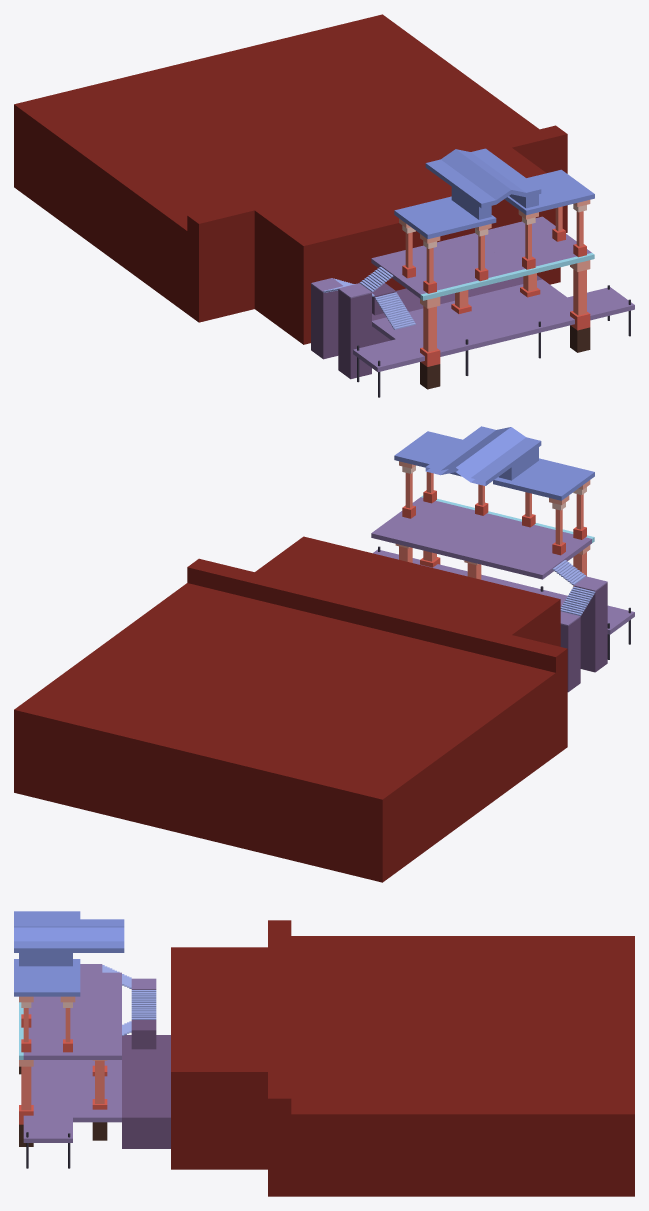
The model's file is dock for test.fbx.
3 renders of one model, top to bottom at view 1: azimuth 30°, elevation 25°; view 2: azimuth 150°, elevation 25°; view 3: azimuth 270°, elevation 25°, orthographic.
Visible parts, largest first — view 1: entrance_roof.003, underneath entrance, entrance_door_platform.021, entrance_roof, entrance_roof.002, beneath steps.001, beneath steps.002, dock_platform, dock_platform.002, dock_platform.003, dock_platform.004, dock_platform.009 (+17 smaller); view 2: entrance_roof.003, underneath entrance, entrance_door_platform.021, entrance_roof.002, entrance_roof, beneath steps.001, entrance_platform.004, entrance_platform.009, entrance_platform.007, entrance_platform.008, beneath steps.002, entrance_platform.001 (+4 smaller); view 3: entrance_roof.003, underneath entrance, entrance_roof.002, entrance_door_platform.021, entrance_roof, dock_nat_platform, dock_platform.004, entrance_platform.007, dock_platform.008, dock_nat_platform.002, dock_nat_platform.001, entrance_platform.009 (+16 smaller).
Part boxes in pixels (box(x1,y1,x2,y2)): entrance_roof.003: box(14, 14, 539, 313); underneath entrance: box(243, 139, 560, 344); entrance_door_platform.021: box(187, 125, 567, 322); entrance_roof: box(394, 169, 594, 239); entrance_roof.002: box(425, 148, 541, 208); beneath steps.001: box(338, 290, 371, 379); beneath steps.002: box(311, 284, 338, 359); dock_platform: box(353, 339, 420, 371); dock_platform.002: box(439, 318, 506, 351); dock_platform.003: box(482, 308, 549, 340); dock_platform.004: box(567, 287, 634, 319); dock_platform.009: box(525, 297, 591, 330); entrance_roof.003: box(14, 583, 555, 882); underneath entrance: box(243, 536, 560, 658); entrance_door_platform.021: box(187, 558, 567, 755); entrance_roof.002: box(425, 426, 541, 485); entrance_roof: box(394, 431, 594, 500); beneath steps.001: box(580, 583, 607, 672); entrance_platform.004: box(499, 546, 567, 579); entrance_platform.009: box(414, 525, 481, 558); entrance_platform.007: box(371, 515, 438, 547); entrance_platform.008: box(457, 536, 523, 568); beneath steps.002: box(560, 617, 580, 692); entrance_platform.001: box(482, 518, 548, 546); entrance_roof.003: box(291, 936, 634, 1196); underneath entrance: box(171, 947, 291, 1169); entrance_roof.002: box(14, 919, 124, 952); entrance_door_platform.021: box(268, 920, 291, 1196); entrance_roof: box(14, 911, 80, 996); dock_nat_platform: box(122, 1097, 170, 1148); dock_platform.004: box(23, 1117, 72, 1142); entrance_platform.007: box(73, 1034, 121, 1059); dock_platform.008: box(73, 1097, 121, 1122); dock_nat_platform.002: box(122, 1055, 170, 1076); dock_nat_platform.001: box(122, 1076, 170, 1096); entrance_platform.009: box(73, 1014, 121, 1034).
Size of the model in its own units: 17200 by 8100 by 25300.
